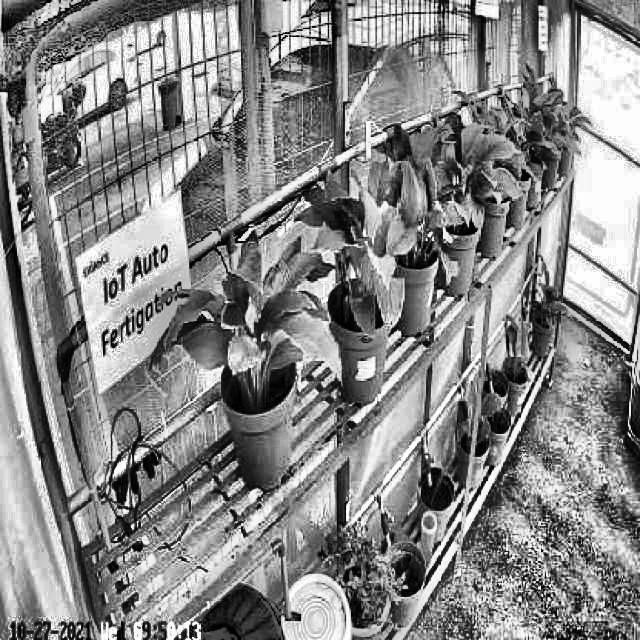plants: (152, 222, 340, 410), (308, 161, 401, 354), (370, 115, 458, 291), (423, 91, 529, 232)
